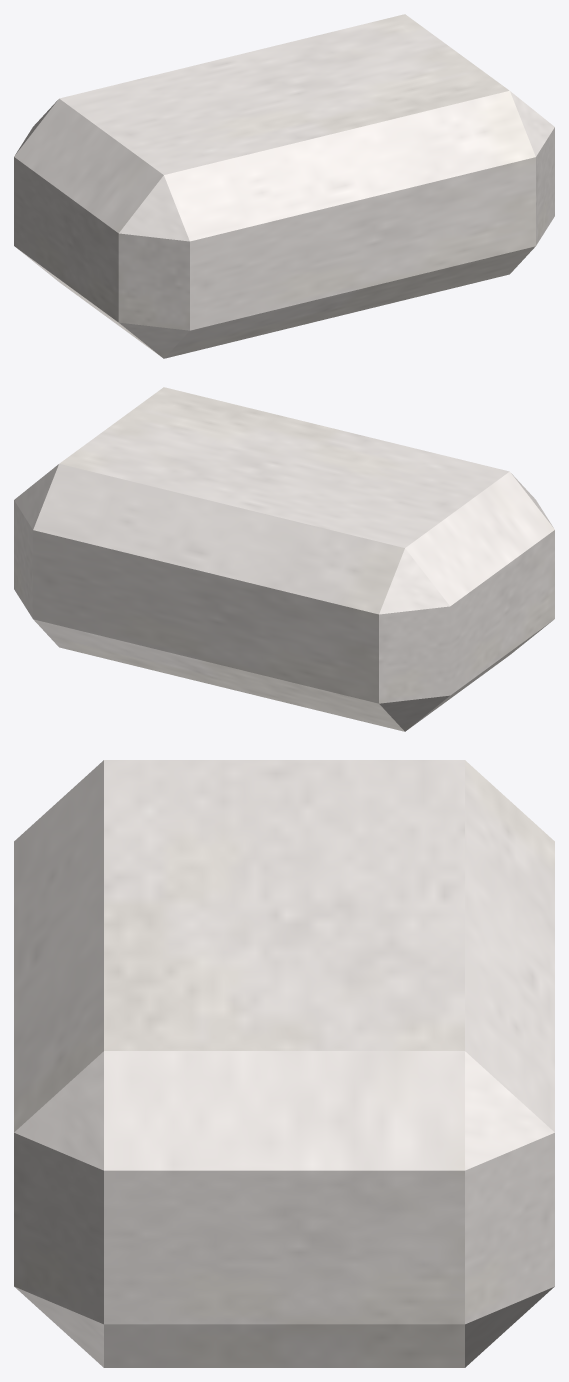
File: soap.FBX
3 renders of one model, top to bottom at view 1: azimuth 30°, elevation 25°; view 2: azimuth 150°, elevation 25°; view 3: azimuth 270°, elevation 25°, orthographic. The views are drawn at different scales.
Parts seen in each view (by area): view 1: Box001; view 2: Box001; view 3: Box001.
Part boxes in pixels (bbox=[...]): Box001: bbox=[14, 14, 554, 358]; Box001: bbox=[14, 387, 554, 731]; Box001: bbox=[14, 760, 554, 1367].
Bounding box in the file's own units: 32.3 × 13 × 20.12.
Materials: 1 (1 with a texture image).
